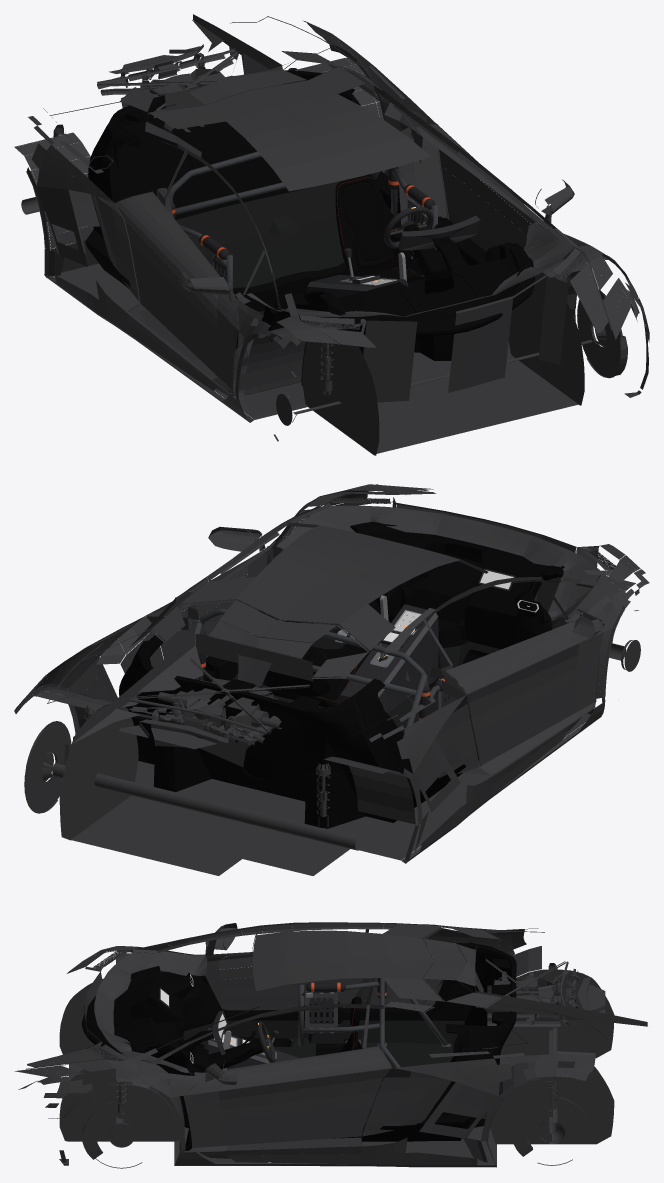
File: v2_cockpit.fbx
3 views of the same model, one above another, from view 1: azimuth 30°, elevation 25°; view 2: azimuth 150°, elevation 25°; view 3: azimuth 270°, elevation 25° (orthographic). The views are drawn at different scales.
Parts seen in each view (by area): view 1: Body_Interior, interior.021, interior, interior.036, interior.039, interior.032, Cowl_Bridge, RollCage, interior.046, interior.003, interior.038, Int_C_009 (+10 smaller); view 2: Body_Interior, interior.039, interior, Cowl_Bridge, interior.036, interior.034, CentreConsole, interior.040, RollCage, interior.021, interior.038, interior.003 (+2 smaller); view 3: Body_Interior, interior.036, interior.021, Cowl_Bridge, interior, interior.039, RollCage, interior.037, interior.040, DoorNet_L, interior.034, interior.032 (+7 smaller).
Part boxes in pixels (x1=…): Body_Interior: x1=14, y1=14, x2=649, y2=455; interior.021: x1=175, y1=181, x2=468, y2=324; interior: x1=88, y1=70, x2=360, y2=216; interior.036: x1=274, y1=242, x2=533, y2=353; interior.039: x1=85, y1=159, x2=399, y2=288; interior.032: x1=340, y1=266, x2=534, y2=335; Cowl_Bridge: x1=246, y1=223, x2=571, y2=317; RollCage: x1=168, y1=151, x2=437, y2=304; interior.046: x1=343, y1=181, x2=386, y2=260; interior.003: x1=335, y1=175, x2=411, y2=272; interior.038: x1=159, y1=83, x2=245, y2=168; Int_C_009: x1=233, y1=250, x2=423, y2=311; Body_Interior: x1=14, y1=484, x2=649, y2=875; interior.039: x1=132, y1=720, x2=438, y2=828; interior: x1=119, y1=655, x2=408, y2=776; Cowl_Bridge: x1=277, y1=505, x2=599, y2=629; interior.036: x1=350, y1=522, x2=563, y2=649; interior.034: x1=411, y1=537, x2=507, y2=647; CentreConsole: x1=337, y1=604, x2=438, y2=713; interior.040: x1=130, y1=634, x2=385, y2=721; RollCage: x1=193, y1=608, x2=467, y2=738; interior.021: x1=230, y1=622, x2=526, y2=732; interior.038: x1=190, y1=679, x2=272, y2=744; interior.003: x1=255, y1=635, x2=329, y2=697; Body_Interior: x1=14, y1=922, x2=647, y2=1168; interior.036: x1=115, y1=966, x2=215, y2=1097; interior.021: x1=183, y1=1020, x2=465, y2=1107; Cowl_Bridge: x1=94, y1=951, x2=207, y2=1073; interior: x1=438, y1=954, x2=516, y2=1098; interior.039: x1=416, y1=999, x2=488, y2=1141; RollCage: x1=298, y1=978, x2=450, y2=1088; interior.037: x1=286, y1=1001, x2=416, y2=1141; interior.040: x1=446, y1=941, x2=511, y2=1048; DoorNet_L: x1=305, y1=992, x2=337, y2=1033; interior.034: x1=115, y1=997, x2=204, y2=1047; interior.032: x1=81, y1=974, x2=131, y2=1054.
Size of the model in its own units: 996 by 460 by 1739.
